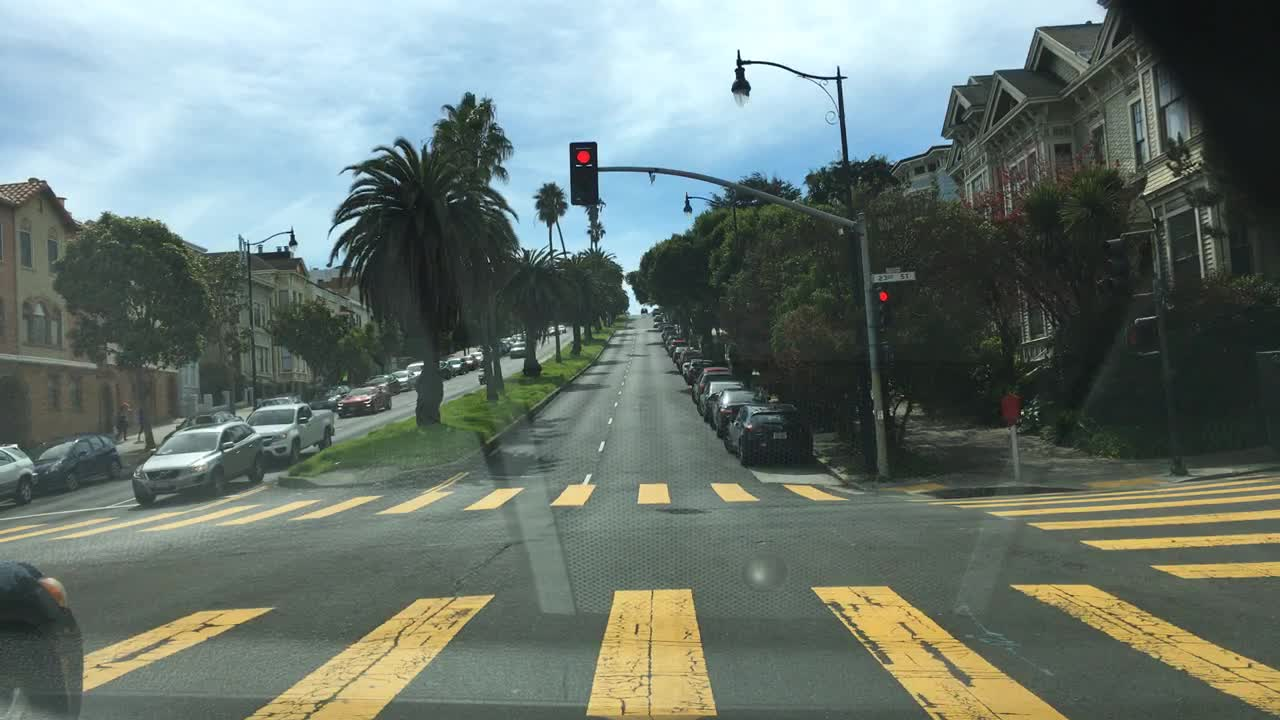car: (0, 558, 86, 718), (129, 420, 267, 508), (25, 432, 125, 495), (723, 400, 812, 469), (707, 384, 771, 438), (0, 442, 41, 507), (694, 378, 747, 421), (333, 384, 393, 417), (691, 363, 734, 403), (173, 406, 246, 429), (308, 384, 353, 409), (363, 372, 404, 396), (679, 357, 712, 382), (251, 394, 305, 409), (676, 348, 706, 372), (392, 369, 417, 391), (668, 343, 694, 363), (443, 357, 471, 375), (437, 358, 458, 379), (665, 337, 688, 355), (507, 343, 531, 360), (458, 352, 479, 370), (405, 360, 425, 378), (467, 349, 486, 367), (498, 336, 513, 352), (661, 334, 682, 345), (659, 327, 677, 339), (510, 331, 527, 342), (545, 325, 558, 339), (637, 305, 649, 317), (658, 321, 674, 330), (555, 324, 567, 334), (652, 313, 667, 321), (650, 306, 665, 313), (653, 319, 667, 325), (704, 549, 707, 563)
person: (111, 398, 132, 443), (133, 405, 153, 441)
traffic light: (567, 139, 599, 206), (870, 286, 892, 312)
traffic sign: (998, 391, 1025, 424), (868, 270, 918, 283), (883, 265, 902, 272)
truck: (240, 400, 336, 463)
